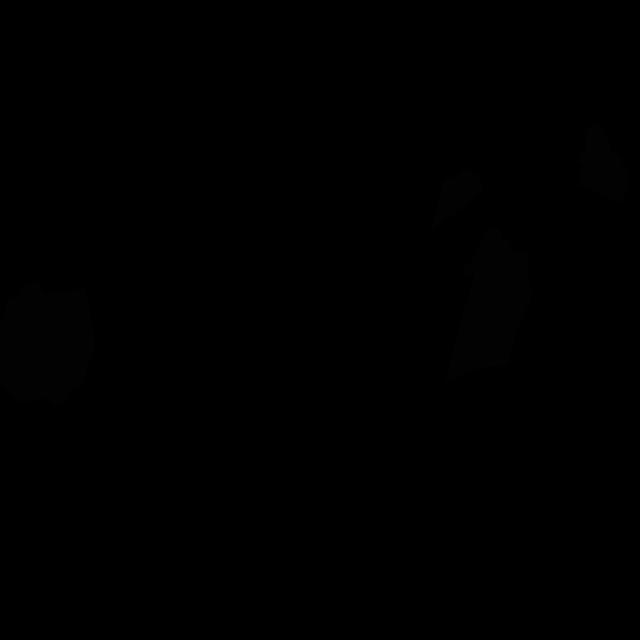cardboard: (444, 225, 532, 381), (0, 280, 95, 406), (576, 124, 629, 204), (430, 167, 483, 233)
